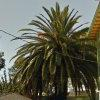Palm tree: (24, 3, 83, 92)
